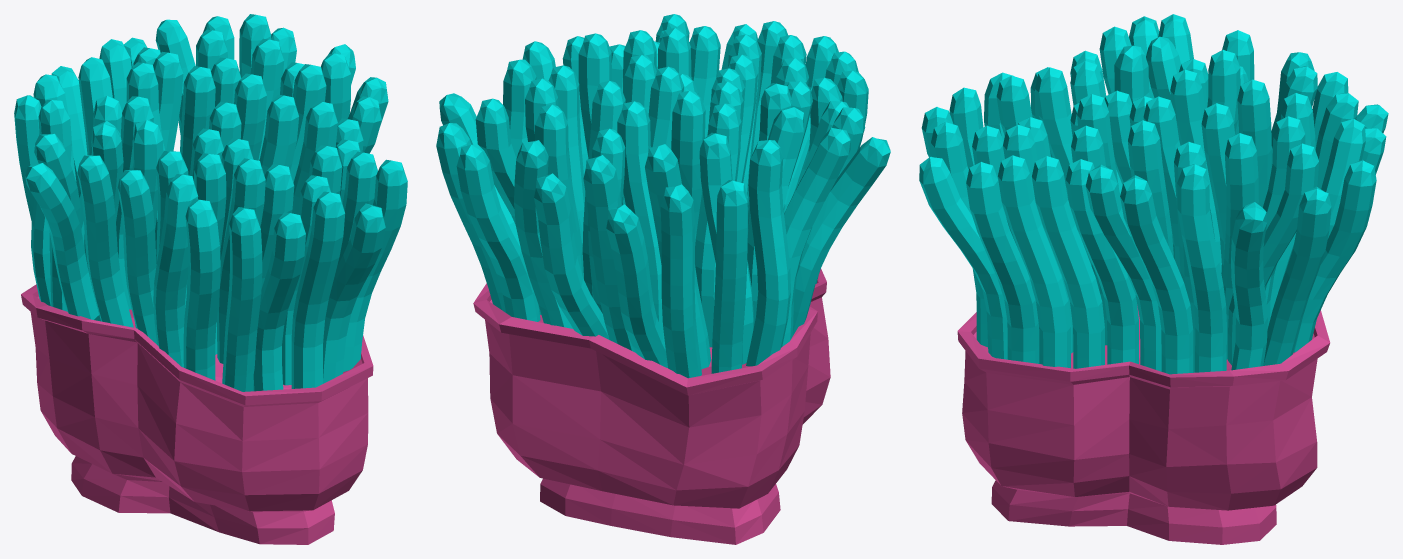
Rendered from Anemone.glb.
3 views of the same model, side by side, from view 1: azimuth 30°, elevation 25°; view 2: azimuth 150°, elevation 25°; view 3: azimuth 270°, elevation 25° (orthographic). The views are drawn at different scales.
Visible parts, largest first — view 1: Node; view 2: Node; view 3: Node.
Part boxes in pixels (<box>): Node: <box>14,14,407,544</box>; Node: <box>436,14,890,544</box>; Node: <box>919,14,1388,544</box>.
Size of the model in its own units: 7.35 by 7.62 by 7.59.
